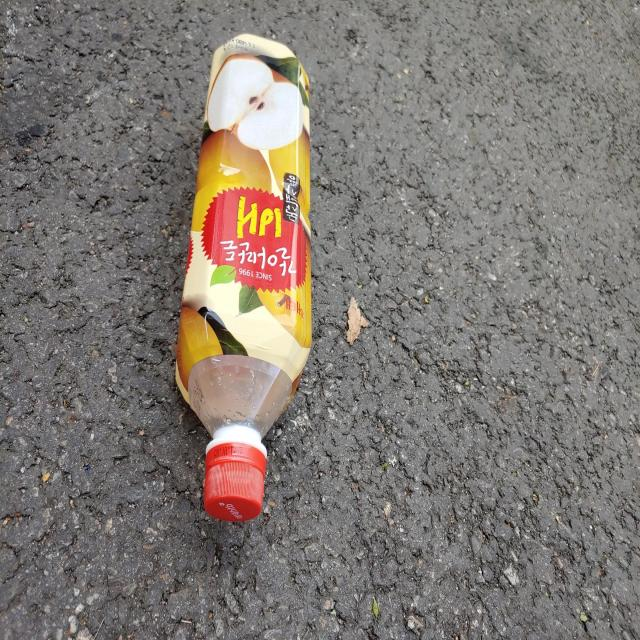plastic: (175, 33, 312, 522)
